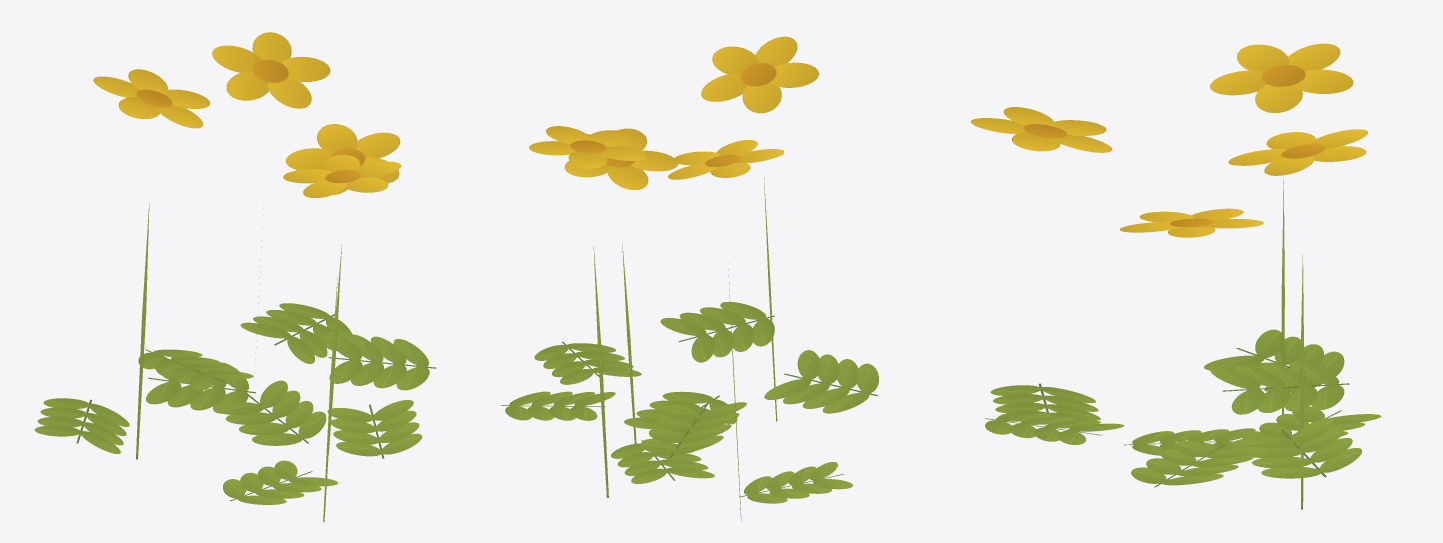
The model's file is Furn_Flower_Buttercup.fbx.
3 renders of one model, left to right at view 1: azimuth 30°, elevation 25°; view 2: azimuth 150°, elevation 25°; view 3: azimuth 270°, elevation 25°, orthographic. The views are drawn at different scales.
Parts seen in each view (by area): view 1: Furn_Flower_Buttercup; view 2: Furn_Flower_Buttercup; view 3: Furn_Flower_Buttercup.
Boxes of the visible parts, left/top/right/bottom form: Furn_Flower_Buttercup: left=34, top=32, right=436, bottom=522; Furn_Flower_Buttercup: left=501, top=36, right=878, bottom=521; Furn_Flower_Buttercup: left=971, top=43, right=1380, bottom=509.
Bounding box in the file's own units: 0.2 × 0.18 × 0.2.
Materials: 1 (1 with a texture image).
